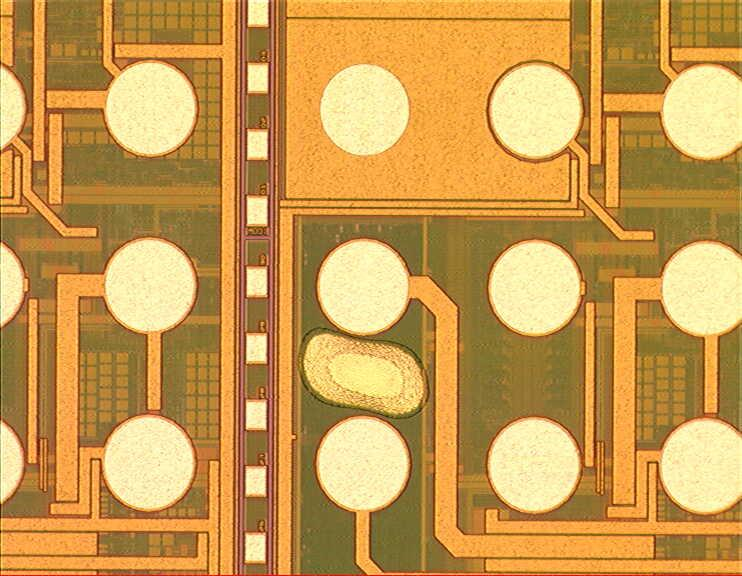BLOCK ETCH: (295, 326, 433, 424)
